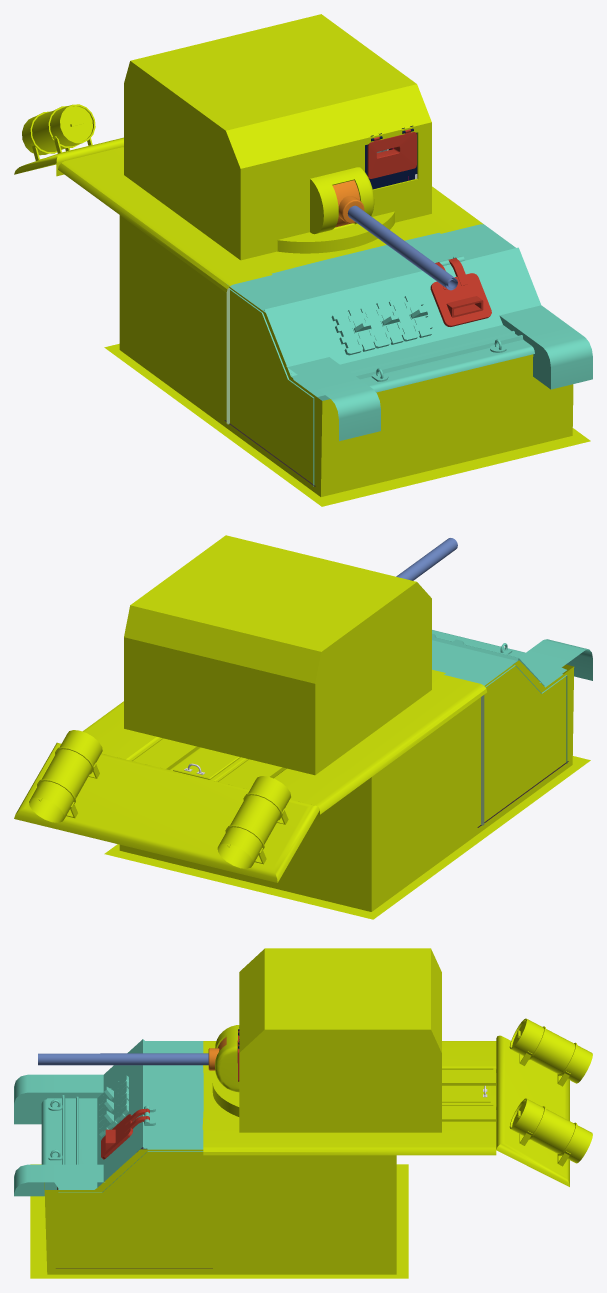
File: Tank_For_Lighting.fbx
The picture shows the model from 3 angles, top to bottom: view 1: azimuth 30°, elevation 25°; view 2: azimuth 150°, elevation 25°; view 3: azimuth 270°, elevation 25°; orthographic projection. The views are drawn at different scales.
Parts seen in each view (by area): view 1: Chassis_Light_Block, Light_Blocks, Front_Armor, Outter_Top_Plate, Right_Barrel, Outter_Gun_Shield, Turret_Cover_Plate, Ring_Shiled, Hatch, Turret_Hatch_Door, Outter_Barrel, Back_Plate (+8 smaller); view 2: Light_Blocks, Chassis_Light_Block, Back_Plate, Outter_Top_Plate, Front_Armor, Right_Barrel, Left_Barrel, Left_Vent, Outter_Hatch, Right_Vent, Outter_Barrel, Chassis_Chamber_Divider; view 3: Chassis_Light_Block, Light_Blocks, Front_Armor, Outter_Top_Plate, Back_Plate, Right_Barrel, Left_Barrel, Outter_Barrel, Outter_Gun_Shield, Turret_Cover_Plate, Right_Vent, Left_Vent (+3 smaller).
Part boxes in pixels (x1,y1,x2,y2): Chassis_Light_Block: [104, 215, 590, 506]; Light_Blocks: [124, 14, 431, 260]; Front_Armor: [227, 222, 592, 486]; Outter_Top_Plate: [58, 147, 483, 292]; Right_Barrel: [22, 104, 95, 155]; Outter_Gun_Shield: [310, 167, 374, 234]; Turret_Cover_Plate: [247, 215, 445, 274]; Ring_Shiled: [277, 211, 394, 253]; Hatch: [430, 258, 491, 326]; Turret_Hatch_Door: [367, 129, 416, 178]; Outter_Barrel: [347, 205, 457, 290]; Back_Plate: [14, 137, 123, 176]; Light_Blocks: [124, 535, 431, 775]; Chassis_Light_Block: [104, 660, 590, 919]; Back_Plate: [14, 742, 319, 882]; Outter_Top_Plate: [82, 675, 486, 814]; Front_Armor: [432, 630, 592, 763]; Right_Barrel: [217, 776, 290, 868]; Left_Barrel: [29, 730, 102, 822]; Left_Vent: [130, 737, 200, 769]; Outter_Hatch: [173, 748, 240, 779]; Right_Vent: [215, 758, 286, 789]; Outter_Barrel: [396, 538, 457, 580]; Chassis_Chamber_Divider: [481, 695, 484, 825]; Chassis_Light_Block: [30, 1149, 408, 1278]; Light_Blocks: [239, 948, 441, 1132]; Front_Armor: [14, 1039, 203, 1196]; Outter_Top_Plate: [203, 1041, 496, 1155]; Back_Plate: [496, 1035, 569, 1186]; Right_Barrel: [509, 1018, 592, 1083]; Left_Barrel: [509, 1098, 592, 1163]; Outter_Barrel: [38, 1053, 208, 1065]; Outter_Gun_Shield: [215, 1025, 239, 1092]; Turret_Cover_Plate: [202, 1065, 239, 1129]; Right_Vent: [442, 1067, 495, 1085]; Left_Vent: [442, 1104, 495, 1121].
Bounding box in the file's own units: 284 × 269 × 608.
